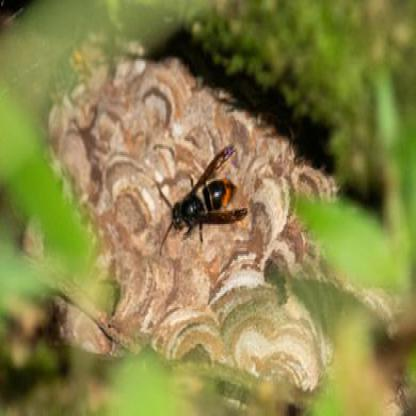Asian Hornet: (154, 143, 246, 254)
